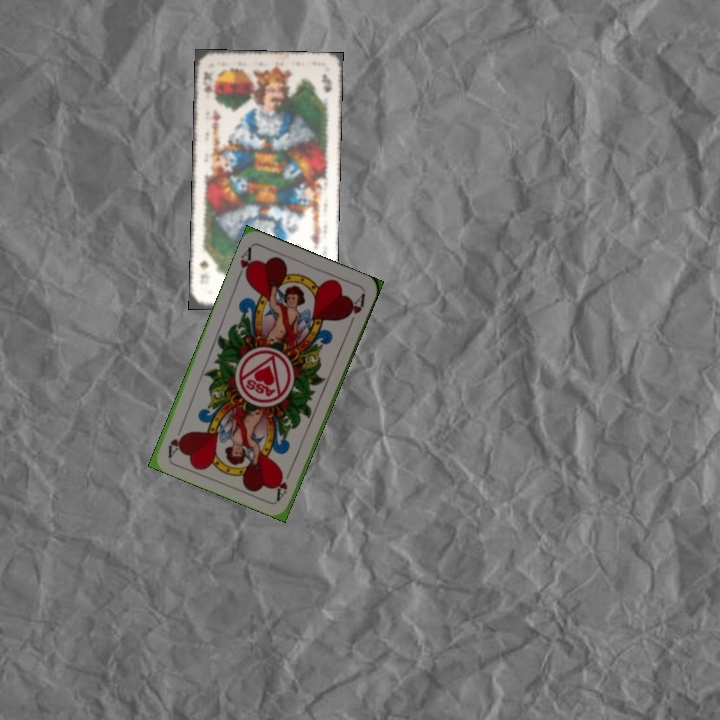HA: (233, 242, 257, 282), (272, 463, 294, 502)
SK: (198, 68, 215, 95)
